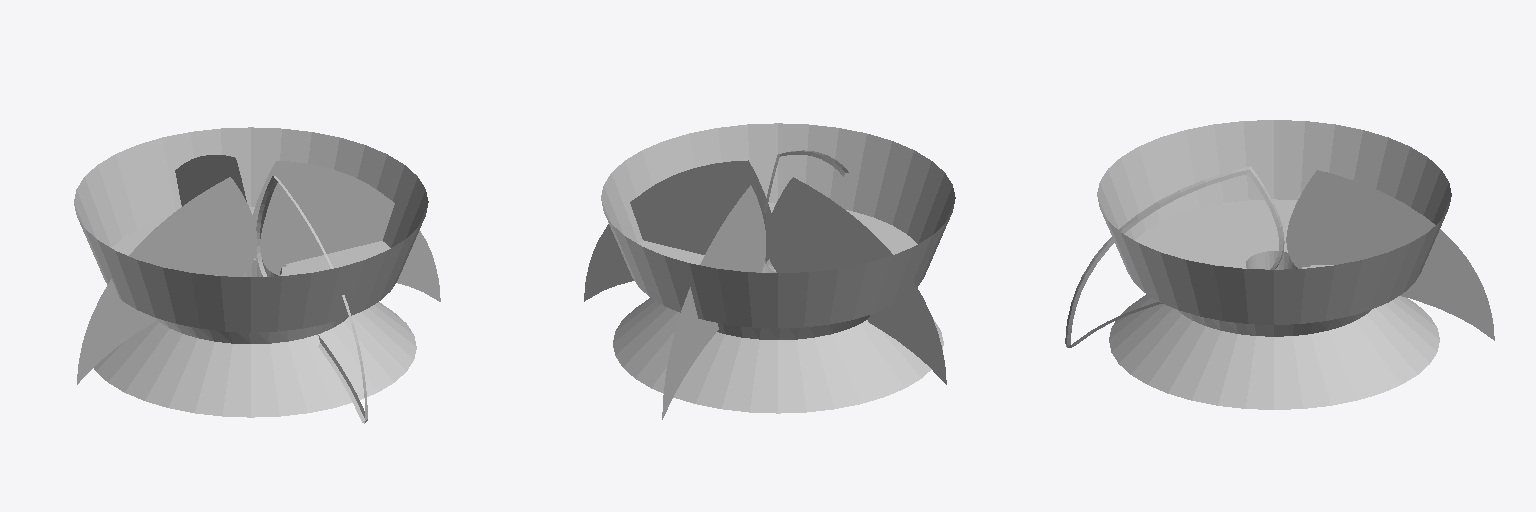
Rendered from fins02.obj.
The picture shows the model from 3 angles: view 1: azimuth 30°, elevation 25°; view 2: azimuth 150°, elevation 25°; view 3: azimuth 270°, elevation 25°; orthographic projection.
Visible parts, largest first — view 1: CUPIC_ROCKETSHIP.025, CUPIC_ROCKETSHIP.048, CUPIC_ROCKETSHIP.038, CUPIC_ROCKETSHIP.033, CUPIC_ROCKETSHIP.040, CUPIC_ROCKETSHIP.036; view 2: CUPIC_ROCKETSHIP.025, CUPIC_ROCKETSHIP.048, CUPIC_ROCKETSHIP.036, CUPIC_ROCKETSHIP.033, CUPIC_ROCKETSHIP.038, CUPIC_ROCKETSHIP.040; view 3: CUPIC_ROCKETSHIP.025, CUPIC_ROCKETSHIP.033, CUPIC_ROCKETSHIP.040.
Boxes of the visible parts, x1=… form: CUPIC_ROCKETSHIP.025: x1=74, y1=127, x2=428, y2=417; CUPIC_ROCKETSHIP.048: x1=77, y1=177, x2=256, y2=384; CUPIC_ROCKETSHIP.038: x1=260, y1=169, x2=440, y2=301; CUPIC_ROCKETSHIP.033: x1=175, y1=155, x2=246, y2=206; CUPIC_ROCKETSHIP.040: x1=256, y1=176, x2=367, y2=423; CUPIC_ROCKETSHIP.036: x1=253, y1=161, x2=383, y2=261; CUPIC_ROCKETSHIP.025: x1=601, y1=123, x2=955, y2=413; CUPIC_ROCKETSHIP.048: x1=766, y1=177, x2=946, y2=384; CUPIC_ROCKETSHIP.036: x1=584, y1=168, x2=747, y2=301; CUPIC_ROCKETSHIP.033: x1=662, y1=185, x2=765, y2=419; CUPIC_ROCKETSHIP.038: x1=642, y1=160, x2=771, y2=261; CUPIC_ROCKETSHIP.040: x1=763, y1=150, x2=848, y2=271; CUPIC_ROCKETSHIP.025: x1=1097, y1=120, x2=1451, y2=409; CUPIC_ROCKETSHIP.033: x1=1286, y1=170, x2=1494, y2=340; CUPIC_ROCKETSHIP.040: x1=1065, y1=166, x2=1284, y2=347.
Bounding box in the file's own units: 15.32 × 7.42 × 15.92.